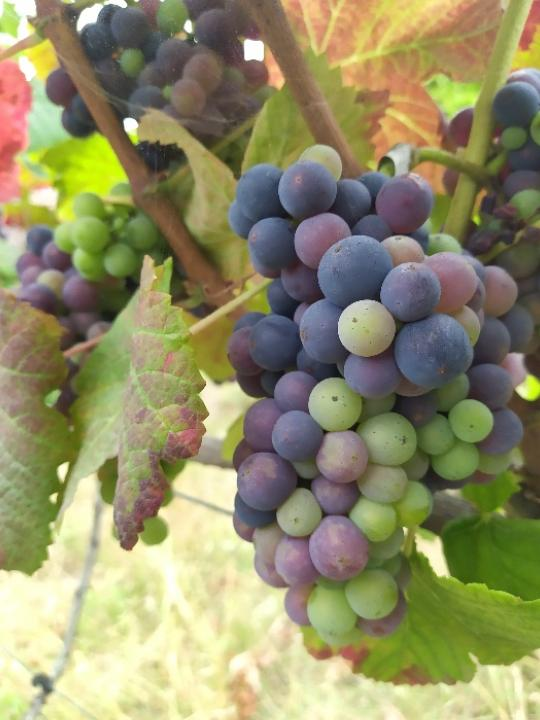grape: (224, 143, 530, 647)
